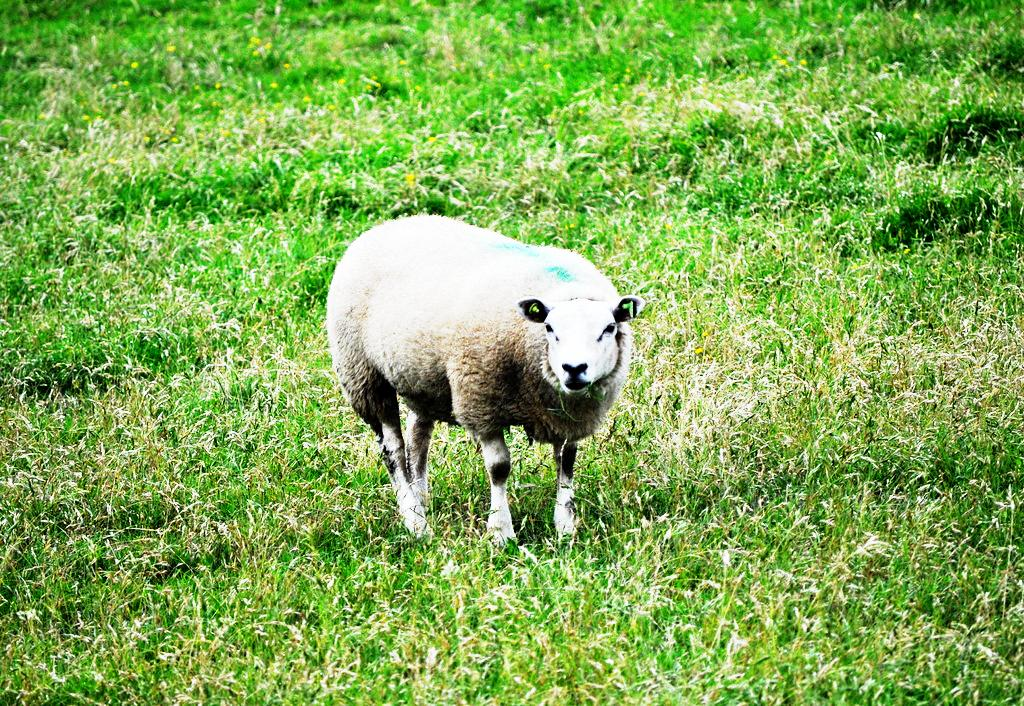Sheep: (325, 216, 648, 546)
